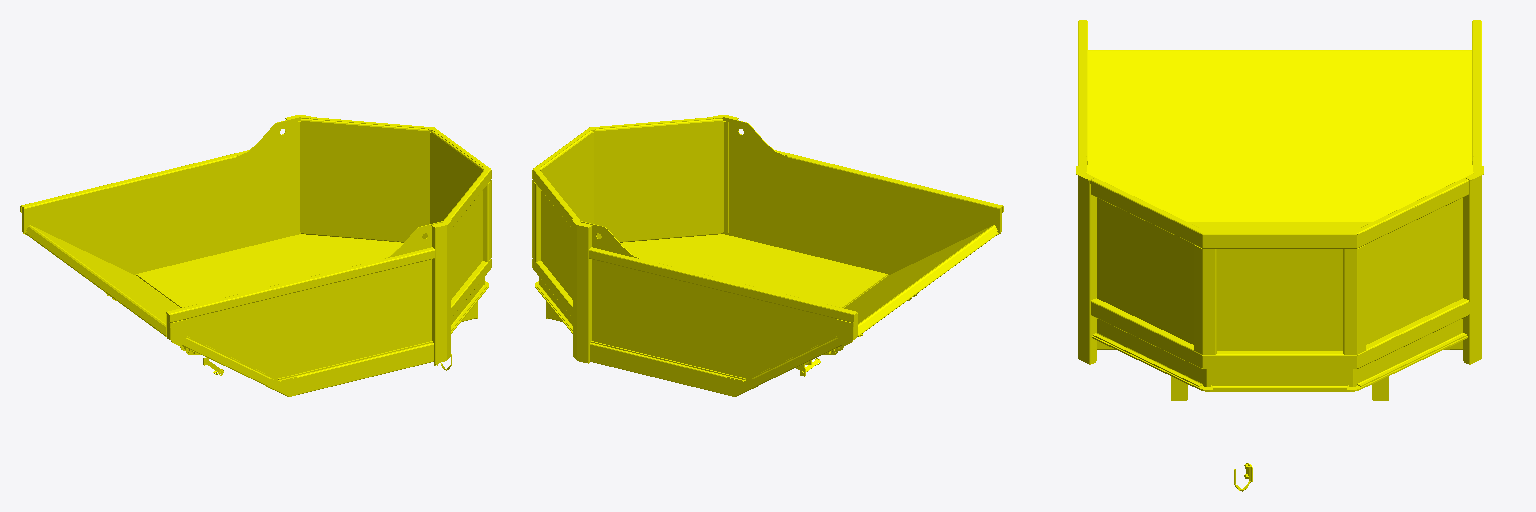
URDF robot description (c30-r):
<?xml version="1.0" encoding="utf-8"?>
<!-- =================================================================================== -->
<!-- |    This document was autogenerated by xacro from c30-r_test.xacro               | -->
<!-- |    EDITING THIS FILE BY HAND IS NOT RECOMMENDED                                 | -->
<!-- =================================================================================== -->
<robot name="c30-r">
  <material name="grey">
    <color rgba="0.4 0.4 0.4 1.0"/>
  </material>
  <material name="yellow">
    <color rgba="1.0 1.0 0.0 1.0"/>
  </material>
  <link name="base_link"/>
  
  <link name="body_link">
  <!-- <link name="base_link"> -->
    <visual>
      <origin rpy="1.57079632679 0 3.14159265359" xyz="0 0 0.0"/>
      <geometry>
        <mesh filename="package://c30-r_description/meshes/carrier.stl" scale="0.001 0.001 0.001"/>
      </geometry>
      <material name="grey"/>
    </visual>
    <!--<collision>
      <origin xyz="0 0 0.0" rpy="${pi/2} 0 ${pi}"/>
      <origin xyz="0 0 0.0" rpy="1.57 0 3.141592"/>
      <geometry>
        <mesh filename="package://c30-r_description/meshes/carrier.stl" scale="0.001 0.001 0.001"/>
      </geometry>
    </collision>-->
    <inertial>
      <mass value="2429"/>
      
      <origin rpy="0 0 0" xyz="-0.389 -0.01 0.438"/>
      <inertia ixx="893.2" ixy="264.1" ixz="-22.5" iyy="1904.5" iyz="-5.5" izz="1743.4"/>
    </inertial>
  </link>
  <!--mass value is listed in maintenance manual -->

  <link name="body_hinge_link"/>
  <!--<link name="body_hinge_link">
    <inertial>
      <mass value="0.001"/>
      <origin xyz="0 0 0" rpy="0 0 0"/>
      <inertia ixx="0.001" ixy="0" ixz="0" iyy="0.001" iyz="0" izz="0.001"/>
    </inertial>
  </link>-->

  <!--<link name="bed_link"/>-->
  <link name="bed_link">
    <visual>
      <!--<origin xyz="0 0 0.0" rpy="${pi/2} 0 ${pi}"/>-->
      <origin xyz="0 0 0.0" rpy="1.57075 0 3.1415"/>
      <geometry>
        <mesh filename="package://c30-r_description/meshes/bed.stl" scale="0.001 0.001 0.001"/>
      </geometry>
      <material name="yellow"/>
    </visual>
    <!-- <collision>
      <origin xyz="0 0 0.0" rpy="${pi/2} 0 ${pi}"/>
      <geometry>
        <mesh filename="package://c30-r_description/meshes/bed.stl" scale="0.001 0.001 0.001"/>
      </geometry>
    </collision> -->
    <inertial>
      <mass value="346"/> 
      <origin xyz="-1.5 0.0 0.892" rpy="0 0 0"/>
      <inertia ixx="92.3" ixy="-4.0" ixz="-0.1" iyy="206.5" iyz="-0.04" izz="140.5"/>
    </inertial>
  </link>
  
  <!--mass value is listed in maintenance manual -->
  <link name="bed_hinge_link">
    <inertial>
      <mass value="0.001"/>
      <origin xyz="0 0 0" rpy="0 0 0"/>
      <inertia ixx="0.001" ixy="0" ixz="0" iyy="0.001" iyz="0" izz="0.001"/>
    </inertial>
  </link>
  
  <joint name="base_to_body" type="fixed">
    <origin rpy="0 0 0" xyz="0 0 0"/>
    <parent link="base_link"/>
    <child link="body_link"/>
    <!--<parent link="body_link"/>
    <child link="base_link"/> -->
  </joint>
  
  <joint name="body_to_body_hinge" type="fixed">
    <!--<origin xyz="-2.25 0 0.85" rpy="0 0 ${pi/2}"/>-->
    <origin xyz="-2.25 0 0.85" rpy="0 0 1.57075"/>
    <!--<parent link="body_link"/>-->
    <parent link="base_link"/>
    <child link="body_hinge_link"/>
  </joint>
  
  <joint name="body_hinge_to_bed_hinge" type="revolute">
  <!--<origin xyz="0 0 0" rpy="0 0 0"/>-->
  <!--<origin xyz="-2.25 0 0.85" rpy="0 0 ${pi/2}"/>-->
  <origin xyz="-2.25 0 0.85" rpy="0 0 1.57075"/>
  <!--<parent link="body_hinge_link"/> -->
  <parent link="base_link"/>
  <!--<parent link="body_link"/> -->
  <child link="bed_hinge_link"/>
    <!-- <limit effort="1" velocity="1" lower="${-90*TO_RADIAN}" upper="${0*TO_RADIAN}" />-->
    <limit effort="1" velocity="1" lower="-1.57075" upper="0" />
  </joint>
  
  
  <joint name="bed_to_bed_hinge" type="fixed">
  <!-- <origin xyz="0 -2.25 -0.85" rpy="0 0 ${-pi/2}"/> -->
  <origin xyz="0 0 0" rpy="0 0 0"/>
  <!-- <parent link="bed_hinge_link"/> -->
  <parent link="base_link"/>
  <!-- <parent link="body_link"/> -->
  <child link="bed_link"/>
  </joint>
  
</robot>

--- Facts derived from the render (not from the file) ---
3 views of the same robot in one strip: view 1: azimuth 30°, elevation 25°; view 2: azimuth 150°, elevation 25°; view 3: azimuth 270°, elevation 25° (orthographic).
Model c30-r with 5 links and 4 joints (1 revolute, 3 fixed), rooted at base_link, posed every joint at zero.
Visible links, largest first — view 1: bed_link; view 2: bed_link; view 3: bed_link.
Link boxes in pixels (bbox=[...]): bed_link: bbox=[20, 115, 491, 396]; bed_link: bbox=[532, 115, 1003, 396]; bed_link: bbox=[1076, 20, 1483, 491].
Size in the robot's own frame: 2.08 by 1.47 by 1.11 metres.
Meshes: 2 distinct files referenced, 1 mesh visuals loaded (1 binary STL); not drawn: 1 (reference not matched to a file when rendering).